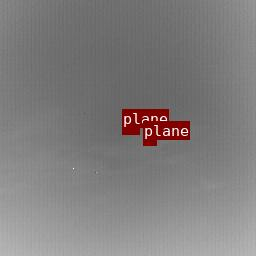plane: (122, 128, 139, 134), (143, 140, 156, 145)
